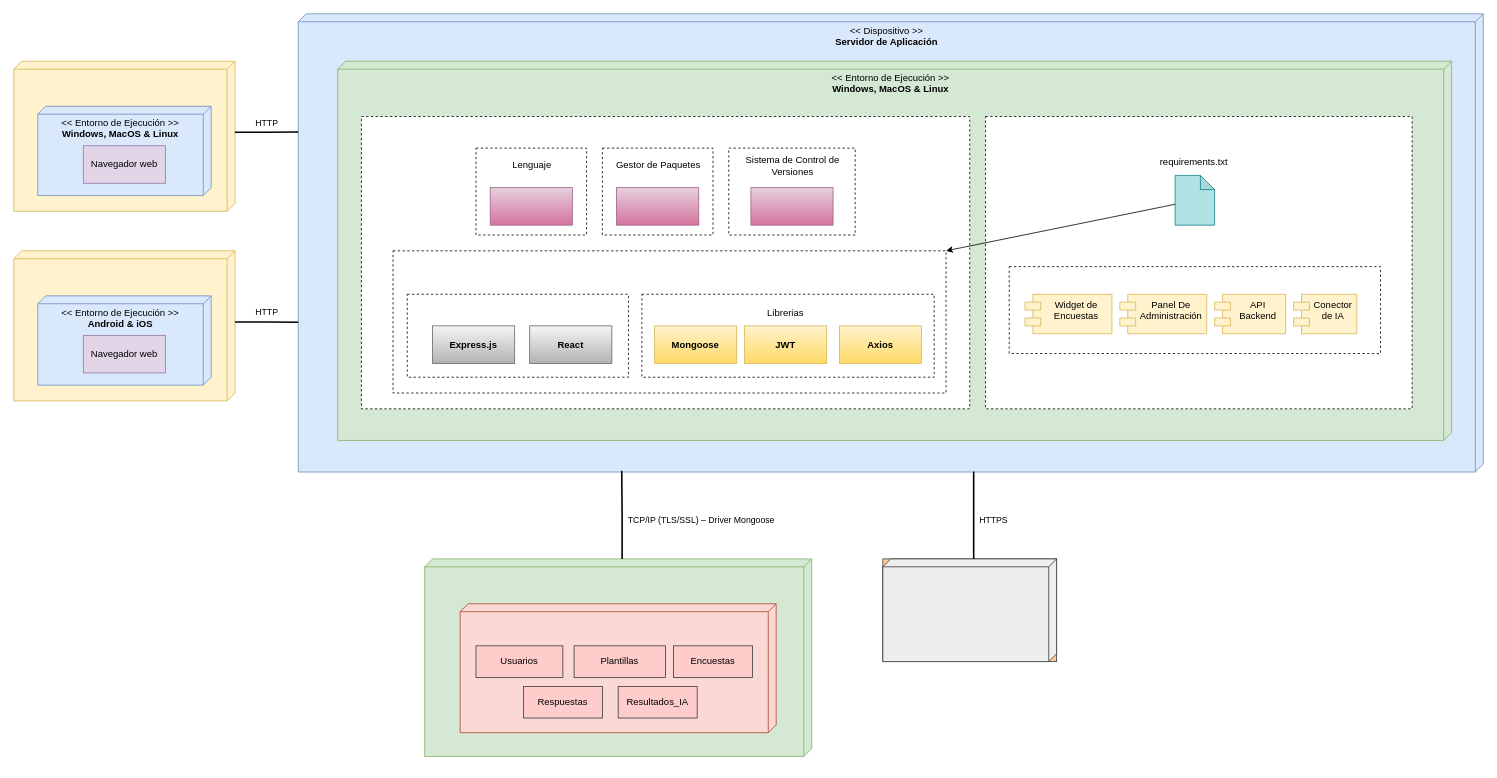
The diagram is 1497 pixels wide and 778 high, and some of its shapes have lost their labels. Here are the shapes that lost their labels. From the top down, the box of each, then its label:
(13, 60, 235, 211): << Dispositivo >> Cliente de Escritorio (PC)
(489, 187, 572, 225): Node.js
(616, 187, 699, 225): npm
(750, 187, 833, 225): Git
(361, 116, 970, 409): Instalado en el Sistema Operativo
(985, 116, 1412, 409): Proyecto SNAS
(13, 250, 235, 401): << Dispositivo >> Cliente Móvil
(392, 250, 946, 393): Instalado desde el proyecto
(1008, 266, 1381, 354): Componentes
(406, 293, 628, 377): Frameworks
(882, 558, 1057, 662): << Dispositivo >> API de HuggingFace
(459, 603, 776, 733): << Base de Datos >> MongoDB
(424, 558, 812, 756): << Dispositivo >> Servidor de Base de Datos (MongoDB Atlas - Nube)
